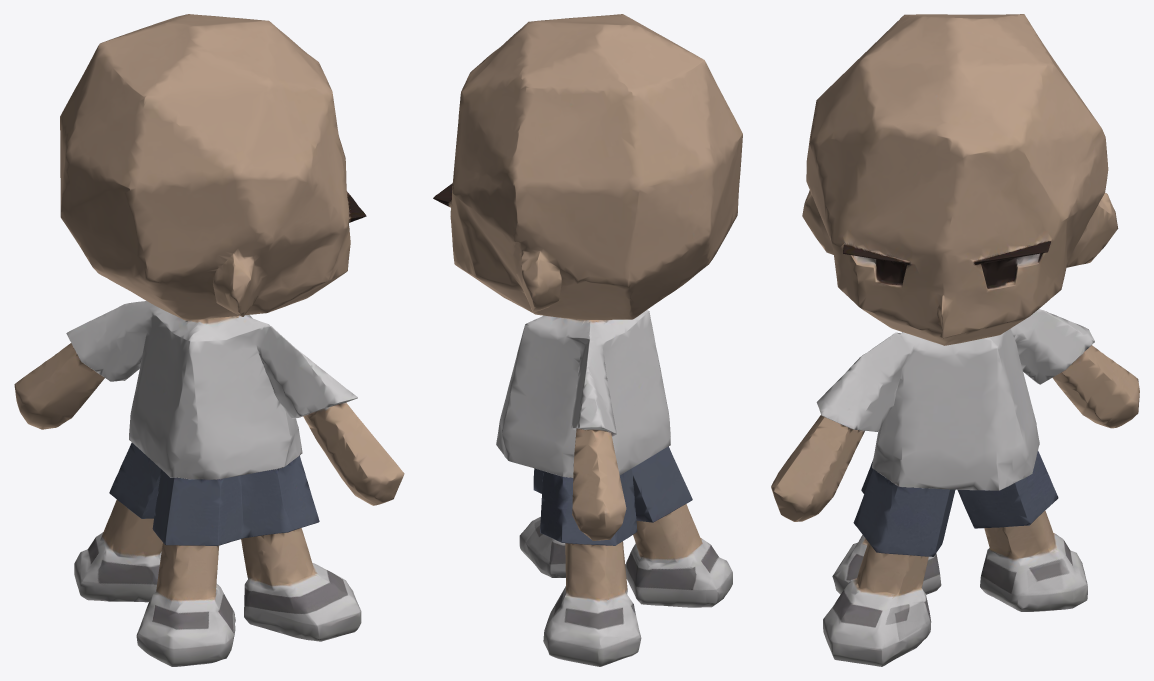
File: base_tripo-multiview-20k.glb
The picture shows the model from 3 angles, left to right: view 1: azimuth 30°, elevation 25°; view 2: azimuth 150°, elevation 25°; view 3: azimuth 270°, elevation 25°; orthographic projection.
Visible parts, largest first — view 1: tripo_node_9a7b3d0f-75d7-4035-aacb-3add16d01b20; view 2: tripo_node_9a7b3d0f-75d7-4035-aacb-3add16d01b20; view 3: tripo_node_9a7b3d0f-75d7-4035-aacb-3add16d01b20.
Part boxes in pixels (bbox=[...]): tripo_node_9a7b3d0f-75d7-4035-aacb-3add16d01b20: bbox=[14, 14, 404, 666]; tripo_node_9a7b3d0f-75d7-4035-aacb-3add16d01b20: bbox=[433, 14, 742, 666]; tripo_node_9a7b3d0f-75d7-4035-aacb-3add16d01b20: bbox=[771, 14, 1139, 666].
Bounding box in the file's own units: 0.484 × 1 × 0.5625.
1 material, 1 textured.
